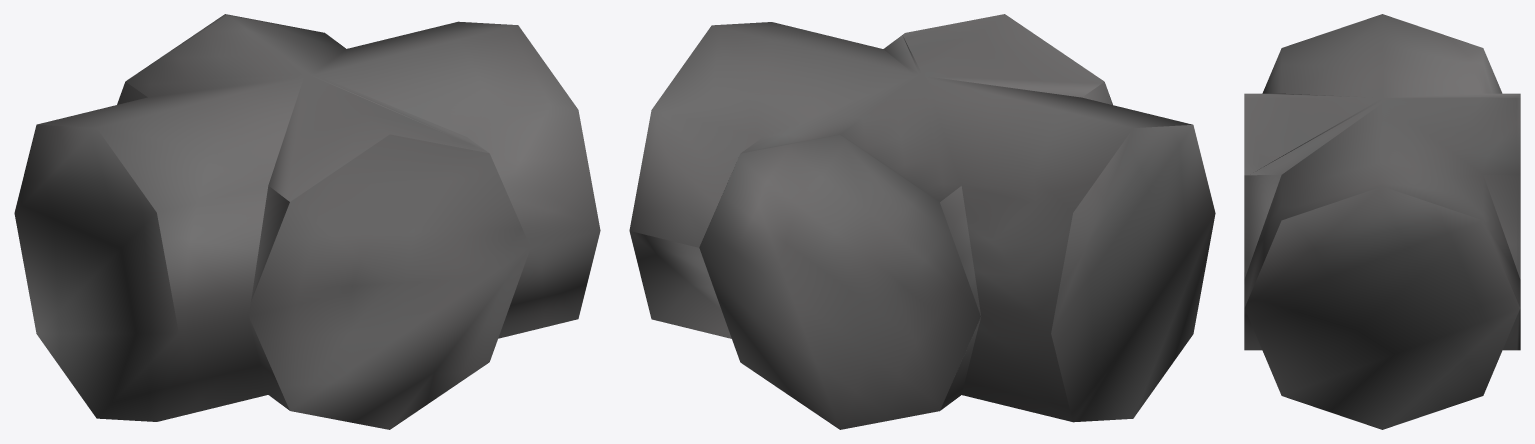
File: l_talus.dae
3 views of the same model, side by side, from view 1: azimuth 30°, elevation 25°; view 2: azimuth 150°, elevation 25°; view 3: azimuth 270°, elevation 25° (orthographic). The views are drawn at different scales.
Parts seen in each view (by area): view 1: p42827_1; view 2: p42827_1; view 3: p42827_1.
Part boxes in pixels (box(x1,y1,x2,y2)): p42827_1: box(14, 14, 600, 429); p42827_1: box(629, 14, 1215, 429); p42827_1: box(1244, 14, 1520, 429).
Bounding box in the file's own units: 0.0296 × 0.0201 × 0.0199.
